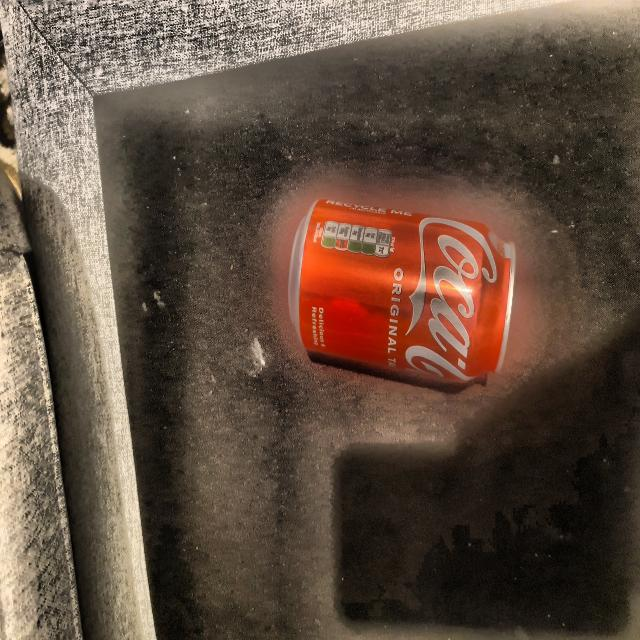coke-can: (297, 195, 514, 383)
